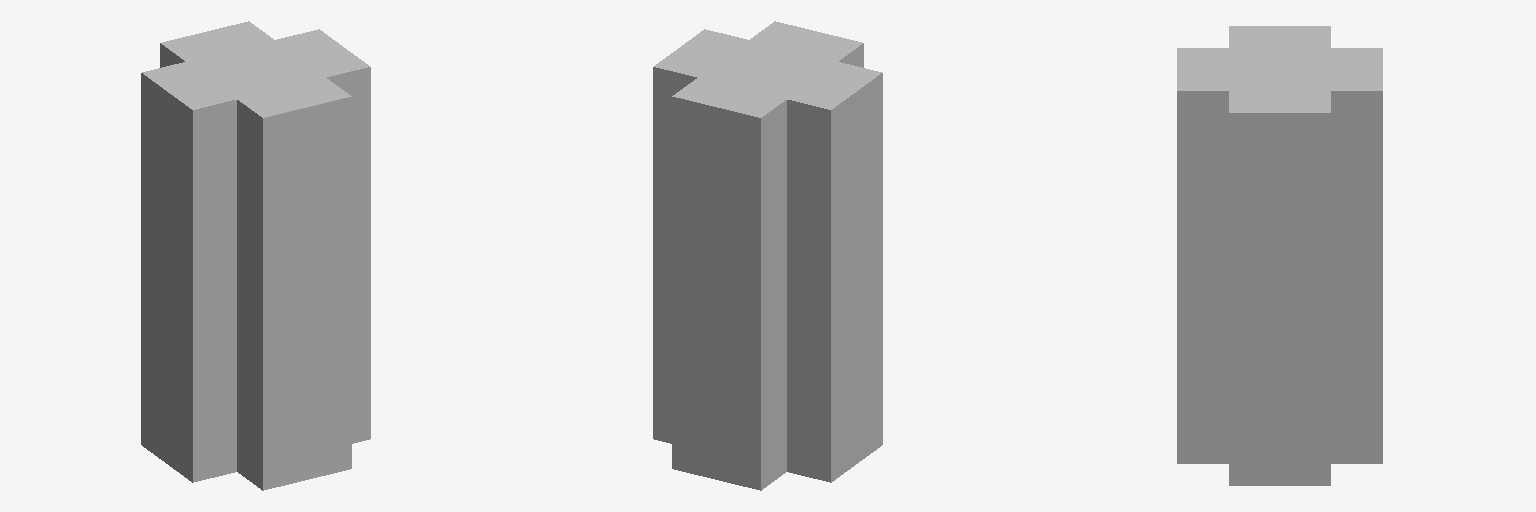
The model's file is corn_cob.obj.
3 views of the same model, side by side, from view 1: azimuth 30°, elevation 25°; view 2: azimuth 150°, elevation 25°; view 3: azimuth 270°, elevation 25° (orthographic).
Visible parts, largest first — view 1: Box023, Box024; view 2: Box023, Box024; view 3: Box023, Box024.
Boxes of the visible parts, box(x1,y1,x2,y2) form: Box023: box(160, 21, 351, 490); Box024: box(141, 29, 370, 482); Box023: box(672, 21, 863, 490); Box024: box(653, 29, 882, 482); Box023: box(1177, 48, 1382, 463); Box024: box(1229, 26, 1330, 485).
Size of the model in its own units: 4 by 8 by 4.